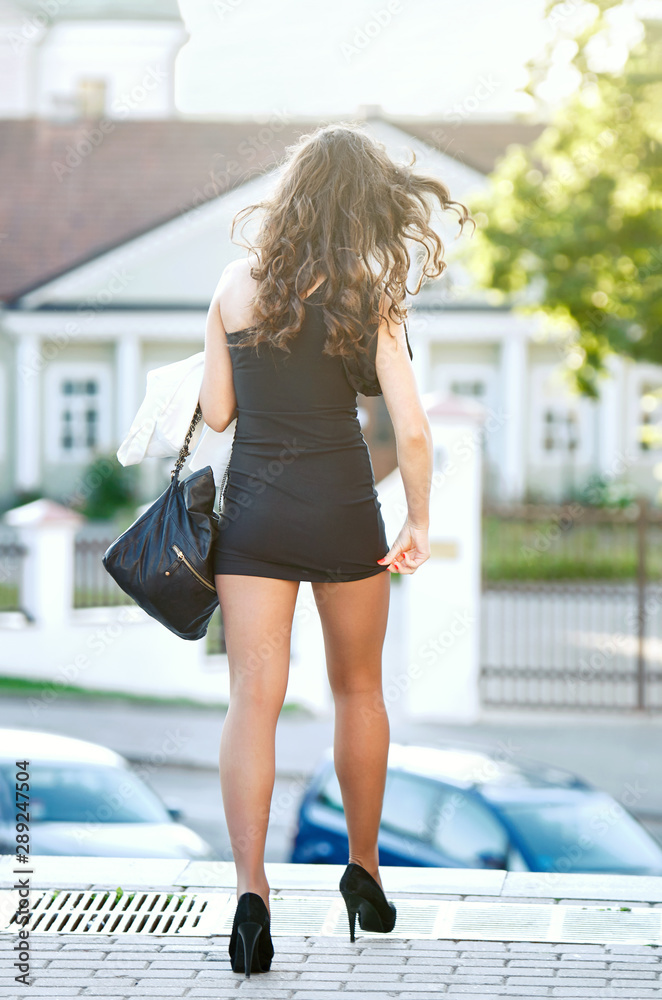person: (191, 124, 435, 974)
